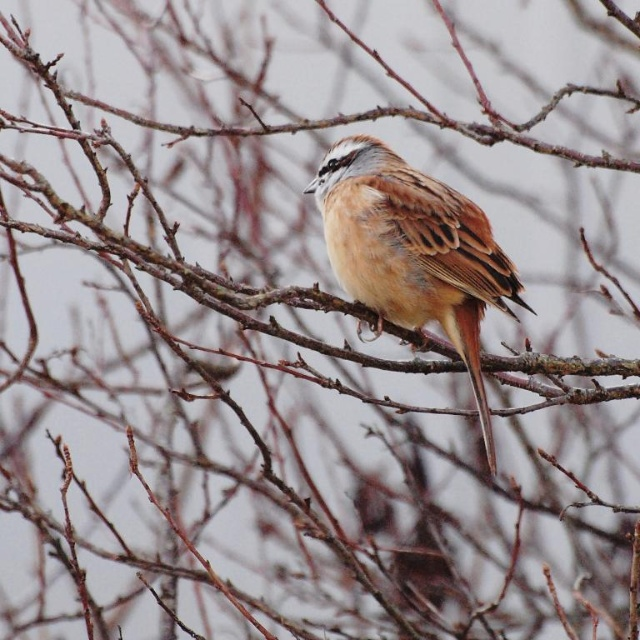Sparrow: (307, 135, 532, 475)
